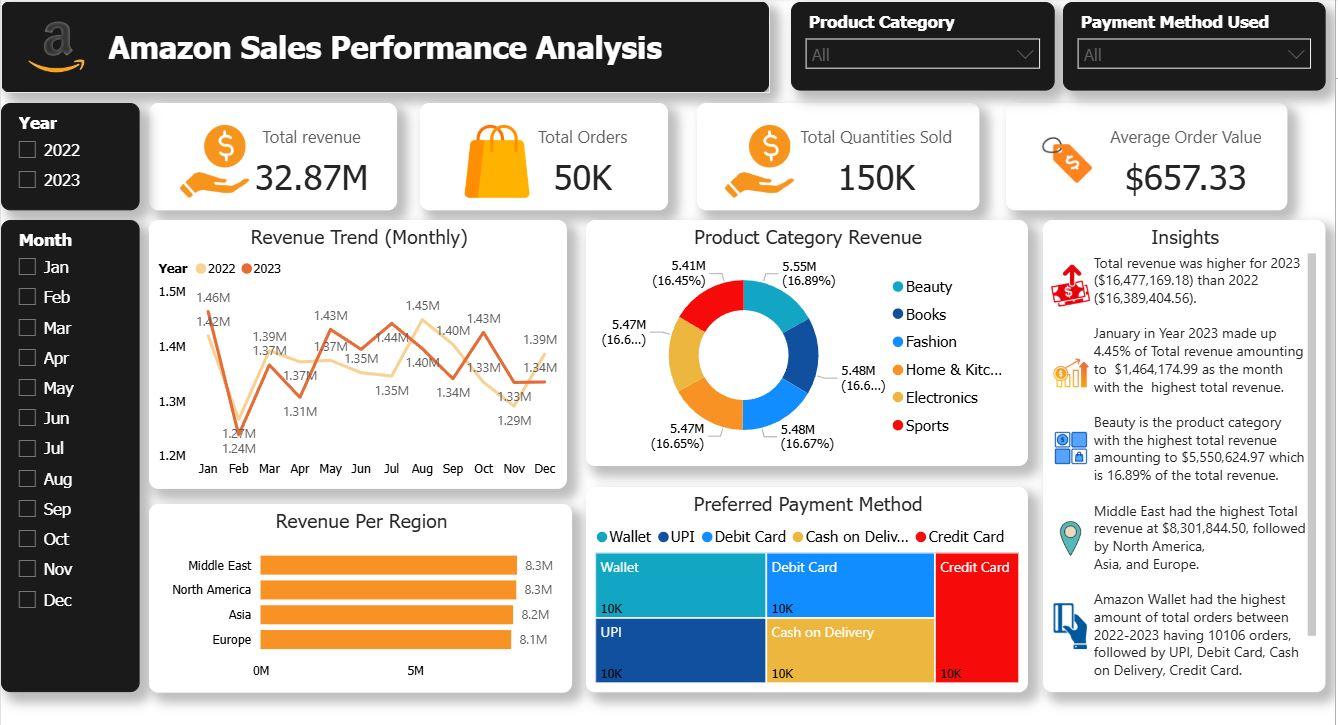

Layout of this report page (visuals, bound fields, positions):
{"tool":"powerbi","page":{"name":"Page 1","canvas":[1280,720],"ordinal":0},"visuals":[{"type":"shape","box":[0,2.9,737.5,88.3],"z":0},{"type":"image","box":[6.7,13.4,93.1,67.2],"z":1000},{"type":"cardVisual","fields":{"Data":["amazon_sales_dataset.Total revenue"]},"box":[142.1,100.8,238.1,102.7],"z":2000},{"type":"cardVisual","fields":{"Data":["amazon_sales_dataset.Total Orders"]},"box":[402.3,100.8,238.1,102.7],"z":3000},{"type":"cardVisual","fields":{"Data":["amazon_sales_dataset.Total Quantities Sold"]},"box":[667.4,100.8,270.8,102.7],"z":4000},{"type":"cardVisual","fields":{"Data":["amazon_sales_dataset.Average Order Value"]},"box":[964.1,100.8,269.8,102.7],"z":5000},{"type":"slicer","fields":{"Values":["amazon_sales_dataset.payment_method"]},"box":[1018.8,3.8,251.6,85.5],"z":6000},{"type":"slicer","fields":{"Values":["amazon_sales_dataset.product_category"]},"box":[757.6,3.8,252.5,85.5],"z":7000},{"type":"slicer","fields":{"Values":["amazon_sales_dataset.Month Name"]},"box":[0,213.2,132.5,453.2],"z":8000},{"type":"slicer","fields":{"Values":["amazon_sales_dataset.Year"]},"box":[0,100.8,132.5,102.7],"z":9000},{"type":"lineChart","title":"Revenue Trend (Monthly)","fields":{"Category":["amazon_sales_dataset.Month Name"],"Y":["amazon_sales_dataset.Total revenue"],"Series":["amazon_sales_dataset.Year"]},"box":[142.1,213.2,401.4,258.3],"z":10000},{"type":"clusteredBarChart","title":"Revenue Per Region","fields":{"Y":["amazon_sales_dataset.Total revenue"],"Category":["amazon_sales_dataset.customer_region"]},"box":[142.1,485.9,406.2,180.5],"z":11000},{"type":"donutChart","title":"Product Category Revenue","fields":{"Category":["amazon_sales_dataset.product_category"],"Y":["amazon_sales_dataset.Total revenue"]},"box":[561.7,213.2,424.4,236.2],"z":12000},{"type":"treemap","title":"Preferred Payment Method","fields":{"Values":["amazon_sales_dataset.Total Orders"],"Group":["amazon_sales_dataset.payment_method"]},"box":[561.7,469.6,424.4,196.8],"z":13000},{"type":"textbox","title":"Insights","box":[999.6,213.2,270.8,453.2],"z":14000},{"type":"image","box":[1003.5,338,46.1,44.2],"z":15000},{"type":"image","box":[999.6,247.7,52.8,56.7],"z":16000},{"type":"image","box":[1005.4,408.1,42.3,49],"z":17000},{"type":"image","box":[1001.5,493.6,49,51.9],"z":18000},{"type":"image","box":[996.7,576.1,58.6,53.8],"z":19000}]}

Visuals, with their boxes in screenshot pixels (x1, y1, x2, y2):
shape: [x1=0, y1=0, x2=759, y2=90]
image: [x1=7, y1=10, x2=103, y2=79]
cardVisual - amazon_sales_dataset.Total revenue: [x1=146, y1=100, x2=391, y2=206]
cardVisual - amazon_sales_dataset.Total Orders: [x1=414, y1=100, x2=659, y2=206]
cardVisual - amazon_sales_dataset.Total Quantities Sold: [x1=687, y1=100, x2=966, y2=206]
cardVisual - amazon_sales_dataset.Average Order Value: [x1=992, y1=100, x2=1270, y2=206]
slicer - amazon_sales_dataset.payment_method: [x1=1049, y1=0, x2=1307, y2=88]
slicer - amazon_sales_dataset.product_category: [x1=780, y1=0, x2=1040, y2=88]
slicer - amazon_sales_dataset.Month Name: [x1=0, y1=216, x2=136, y2=682]
slicer - amazon_sales_dataset.Year: [x1=0, y1=100, x2=136, y2=206]
"Revenue Trend (Monthly)" lineChart: [x1=146, y1=216, x2=559, y2=482]
"Revenue Per Region" clusteredBarChart: [x1=146, y1=497, x2=564, y2=682]
"Product Category Revenue" donutChart: [x1=578, y1=216, x2=1015, y2=459]
"Preferred Payment Method" treemap: [x1=578, y1=480, x2=1015, y2=682]
"Insights" textbox: [x1=1029, y1=216, x2=1307, y2=682]
image: [x1=1033, y1=344, x2=1080, y2=390]
image: [x1=1029, y1=251, x2=1083, y2=310]
image: [x1=1035, y1=417, x2=1078, y2=467]
image: [x1=1031, y1=505, x2=1081, y2=558]
image: [x1=1026, y1=589, x2=1086, y2=645]
